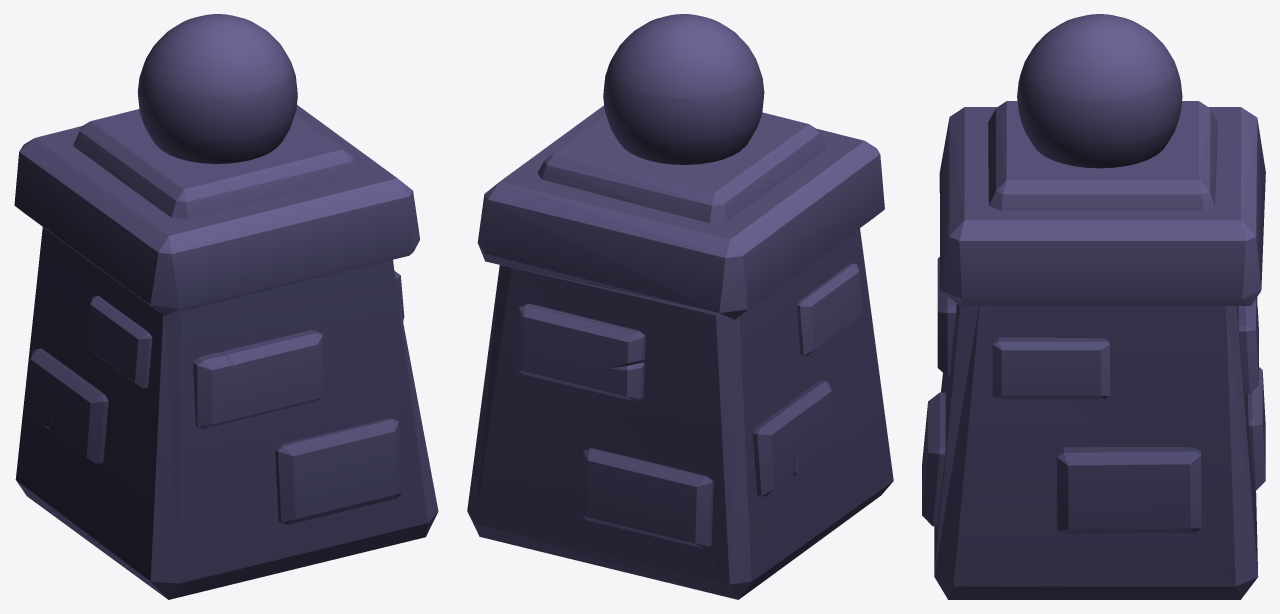
The model's file is fence_pillar_1.glb.
3 renders of one model, left to right at view 1: azimuth 30°, elevation 25°; view 2: azimuth 150°, elevation 25°; view 3: azimuth 270°, elevation 25°, orthographic. The views are drawn at different scales.
Visible parts, largest first — view 1: fence_pillar_1; view 2: fence_pillar_1; view 3: fence_pillar_1.
Part boxes in pixels (x1,y1,x2,y2): fence_pillar_1: (14, 14, 438, 599); fence_pillar_1: (467, 14, 893, 599); fence_pillar_1: (922, 14, 1265, 599).
Size of the model in its own units: 1.82 by 2.88 by 1.76.
Materials: 1 (1 with a texture image).
